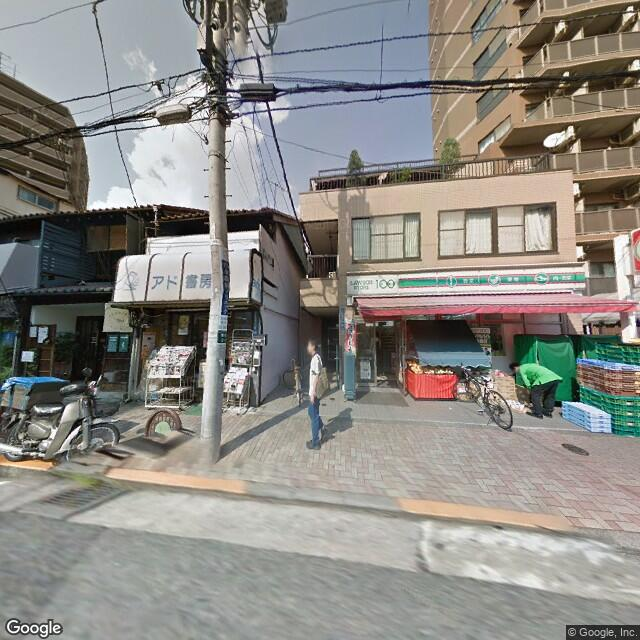lawson: (344, 262, 590, 300)
